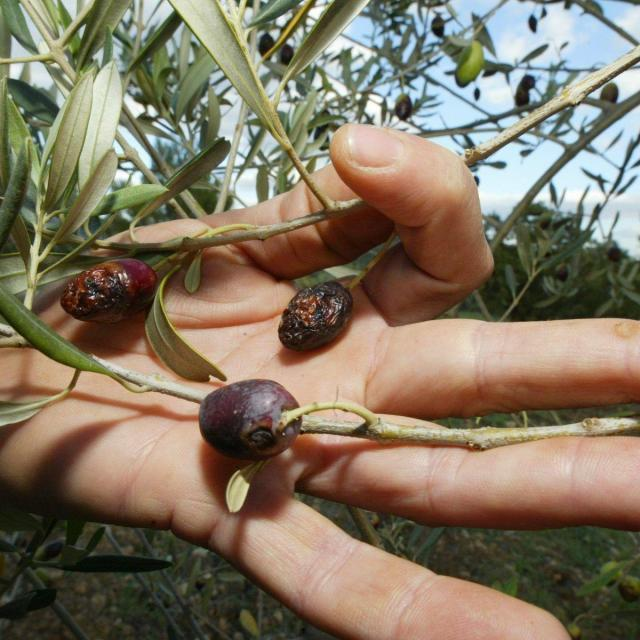Anthracnose: (200, 379, 302, 461), (60, 258, 158, 321), (278, 280, 352, 352)
